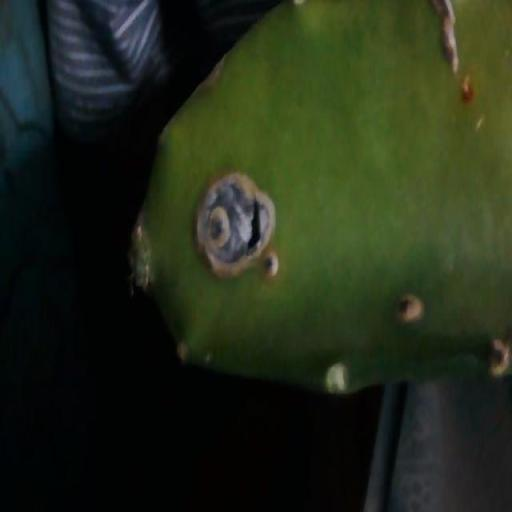stemcanker: (458, 72, 484, 112)
